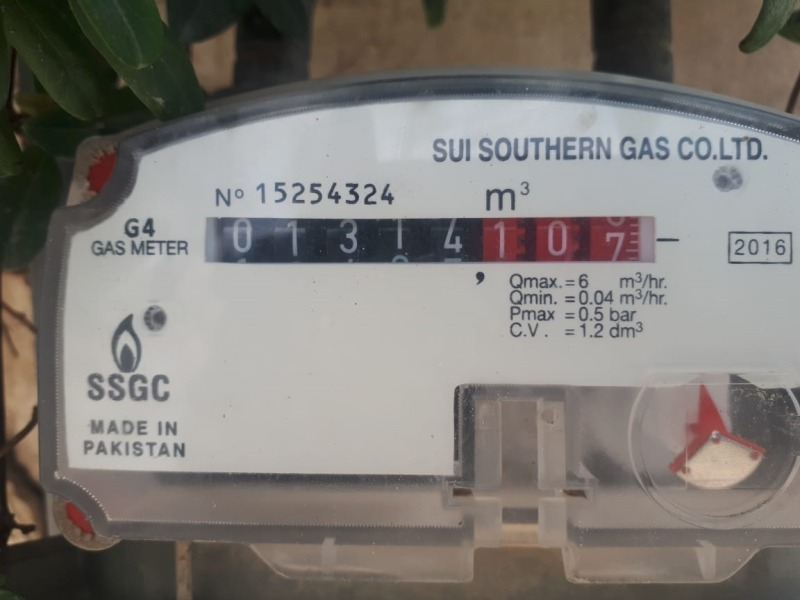ssgc: (199, 212, 654, 271)
